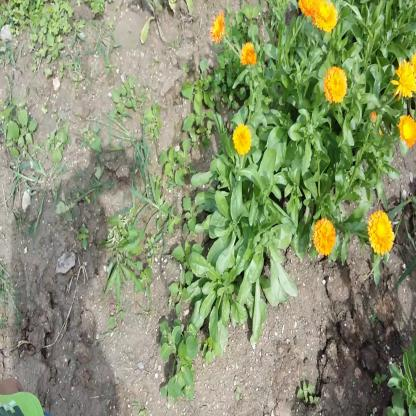marigold: (367, 210, 392, 252), (310, 0, 339, 35), (393, 60, 415, 104), (325, 65, 348, 104), (314, 219, 336, 256), (396, 111, 416, 149), (232, 123, 251, 156), (210, 9, 226, 43), (240, 41, 256, 69)
